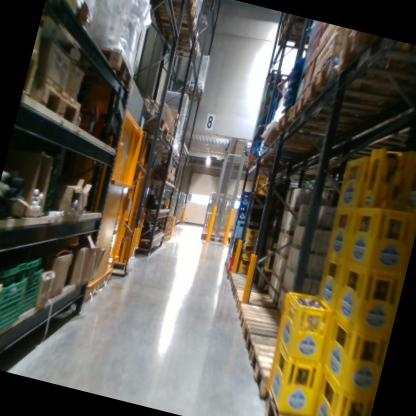pallet: (288, 76, 416, 151), (300, 50, 416, 131), (270, 97, 366, 158), (259, 116, 361, 173), (241, 341, 319, 414), (336, 33, 416, 92), (31, 75, 90, 129), (84, 36, 144, 88), (236, 315, 290, 365), (230, 287, 291, 326), (262, 390, 351, 416), (233, 299, 280, 342), (41, 0, 100, 34), (143, 17, 204, 46), (152, 2, 205, 34), (153, 28, 204, 61), (20, 50, 45, 107), (272, 25, 315, 55), (225, 274, 270, 302), (133, 108, 173, 138), (169, 79, 207, 103), (276, 13, 315, 35), (141, 126, 179, 148), (150, 144, 184, 165), (149, 0, 196, 11), (150, 171, 177, 189), (161, 213, 175, 222), (160, 233, 172, 243), (164, 220, 174, 230), (163, 225, 173, 234), (161, 231, 172, 239)
